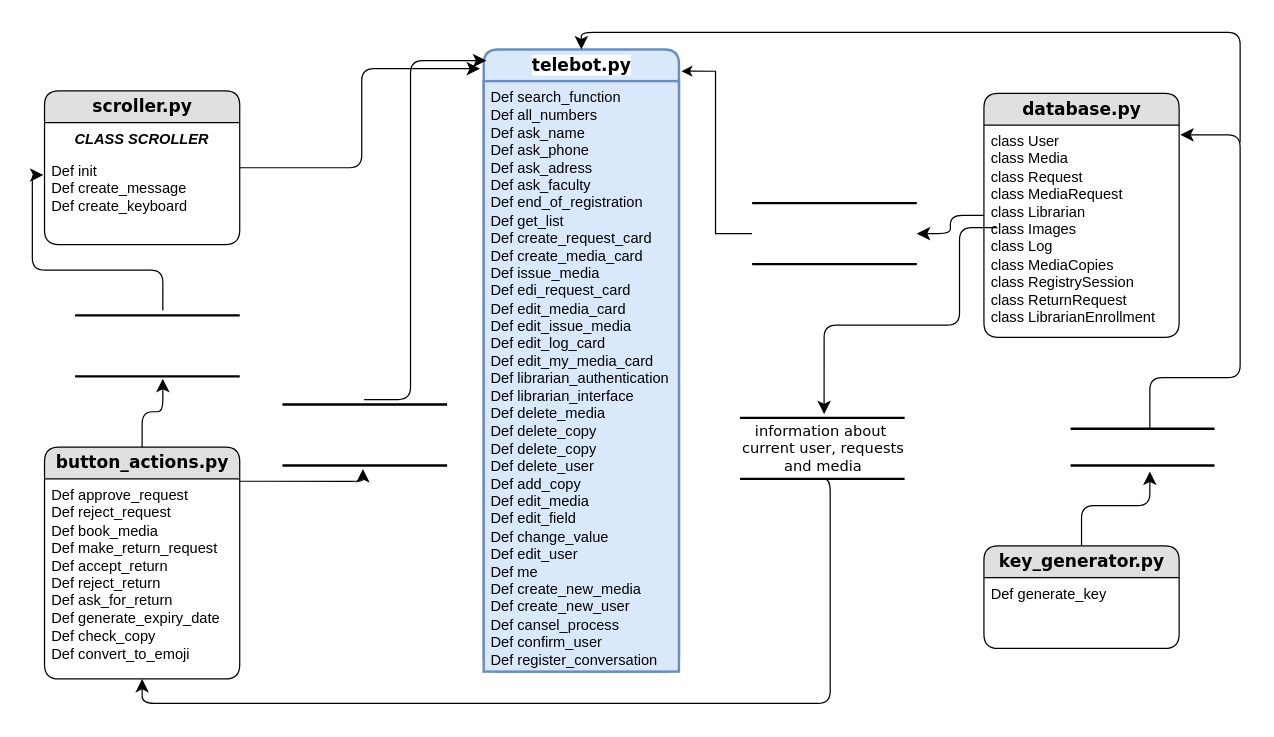
The diagram is 1274 pixels wide and 737 high, and some of its shapes have lost their labels. Here are the shapes that lost their labels. From the top down, the centre of each, then its label:
At point 833,233: "all the information from database".
At point 156,345: "convert_to_emoji".
At point 364,434: "buttons for request reaction".
At point 1142,446: "User sign in key".
